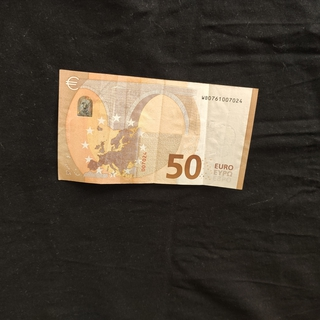50EUROBack: (56, 68, 260, 191)
